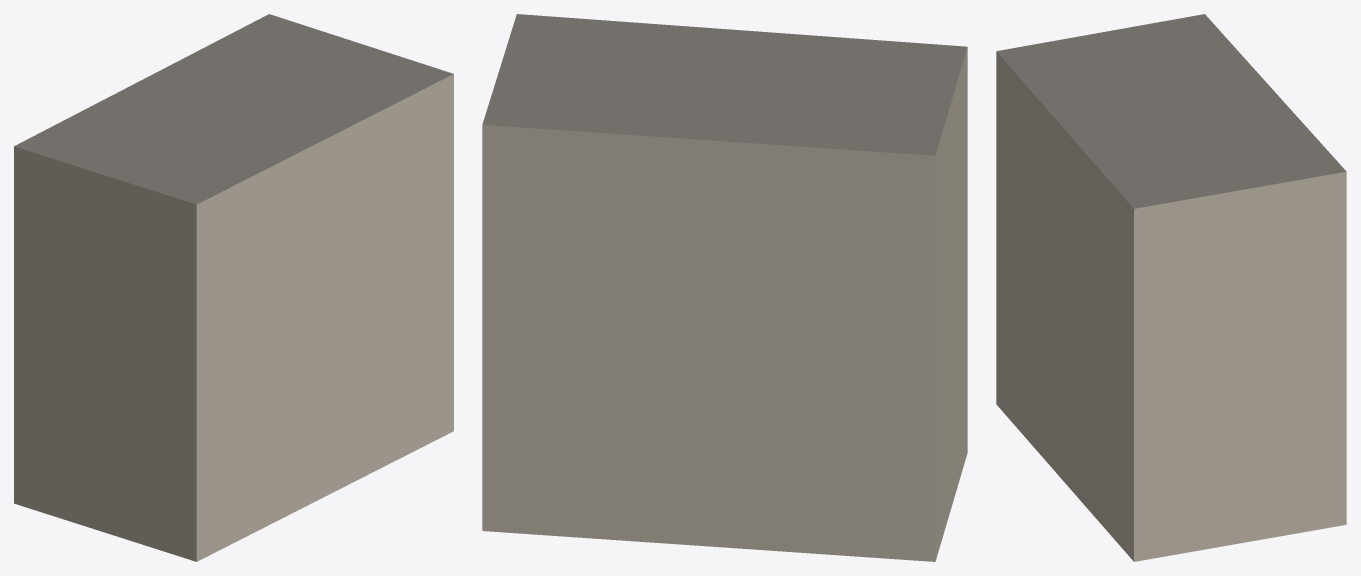
3 renders of one model, left to right at view 1: azimuth 30°, elevation 25°; view 2: azimuth 150°, elevation 25°; view 3: azimuth 270°, elevation 25°, orthographic. The views are drawn at different scales.
Parts seen in each view (by area): view 1: HP-w505633345; view 2: HP-w505633345; view 3: HP-w505633345.
Boxes of the visible parts, x1,y1,x2,y2 form: HP-w505633345: (14,14,453,561); HP-w505633345: (482,14,967,561); HP-w505633345: (996,14,1346,561).
Size of the model in its own units: 21.31 by 18 by 16.19.
